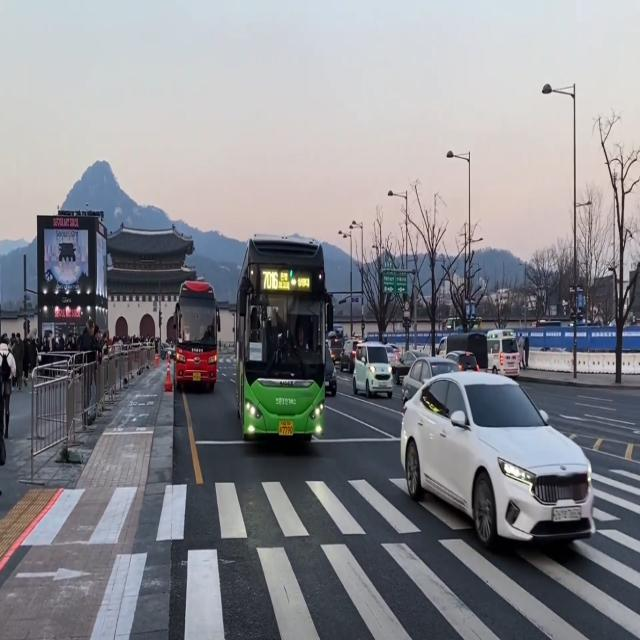bus-number: (262, 270, 278, 290)
